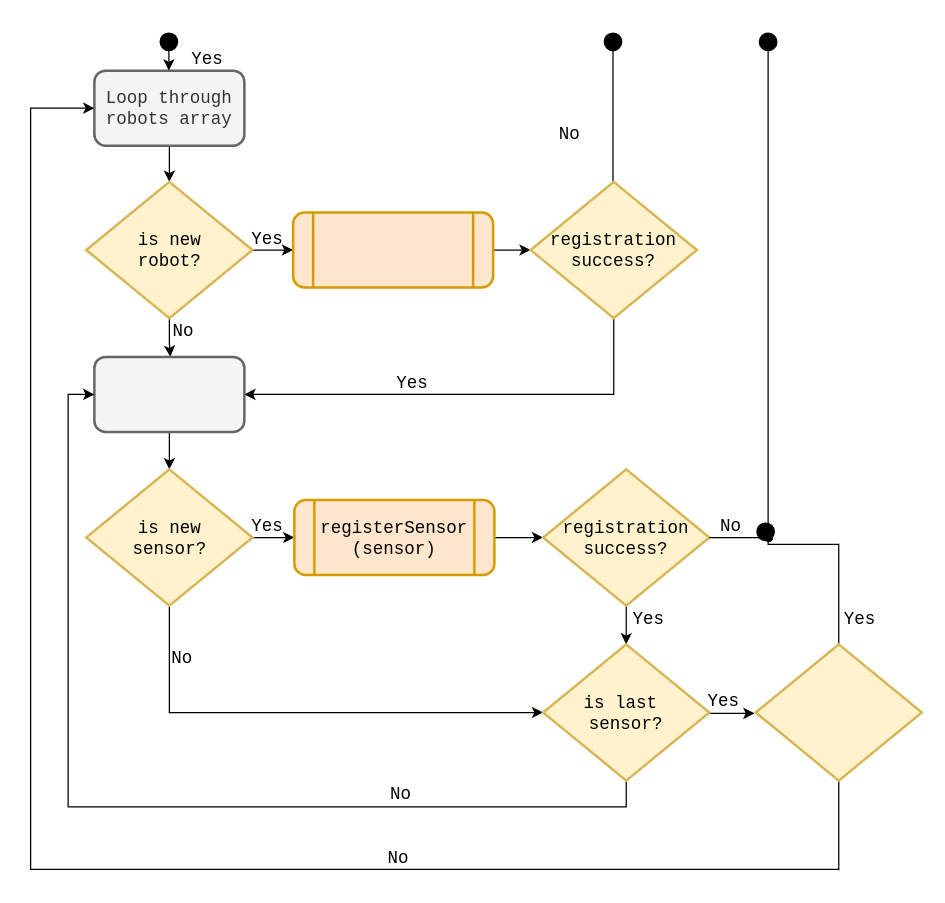
This 945x903 diagram has some shape labels left out. The shapes that lost their labels are listed below. From the top down, each one's centre as x and y in pixels, then its label:
the point at 392,249: registerRobot (robot)
the point at 168,393: Loop through sensors array
the point at 838,711: is last robot?
